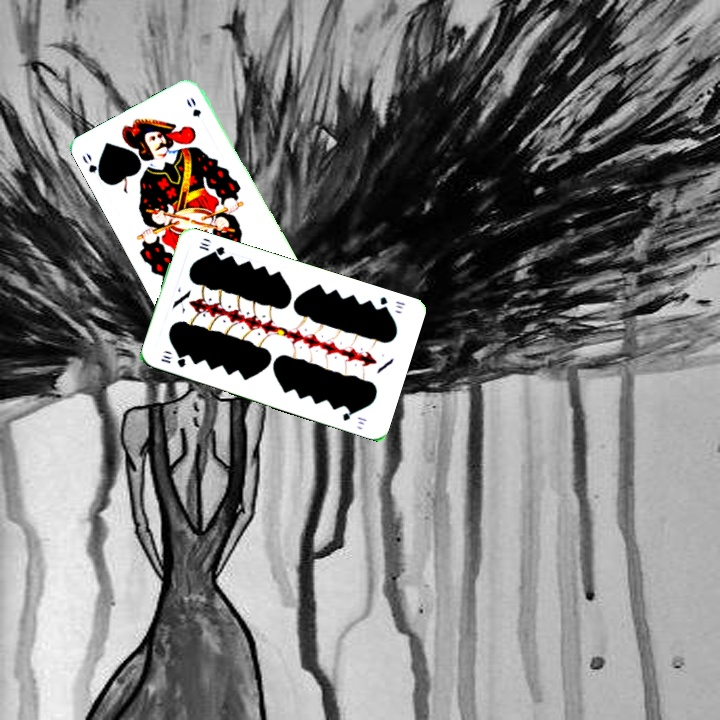G10: (375, 293, 408, 313), (157, 350, 188, 370)
GO: (78, 149, 107, 185)
